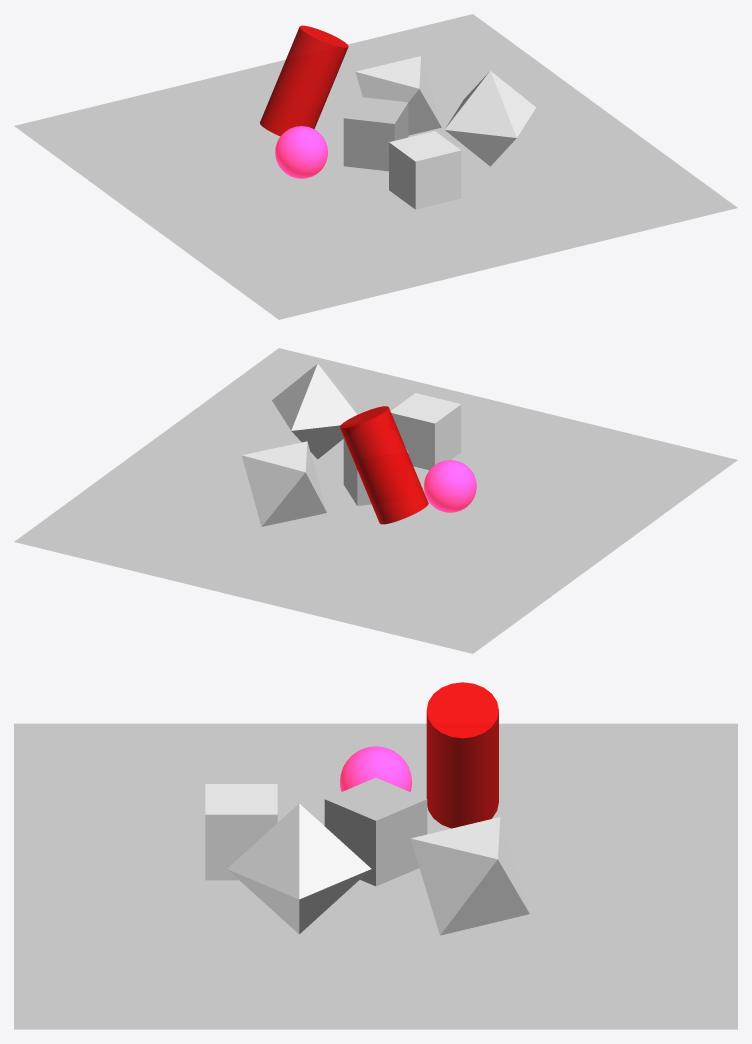
File: TestScene.gltf
3 views of the same model, one above another, from view 1: azimuth 30°, elevation 25°; view 2: azimuth 150°, elevation 25°; view 3: azimuth 270°, elevation 25° (orthographic). The views are drawn at different scales.
Parts seen in each view (by area): view 1: Plane, Cube (×2), Cylinder, Cone (×2), Cone.001 (×2), Sphere; view 2: Plane, Cone (×2), Cylinder, Cube (×2), Cone.001 (×2), Sphere; view 3: Plane, Cone (×2), Cube (×2), Cylinder, Cone.001, Sphere.
Boxes of the visible parts, left/top/right/bottom form: Plane: left=14, top=14, right=737, bottom=319; Cube (×2): left=343, top=96, right=461, bottom=209; Cylinder: left=260, top=25, right=348, bottom=136; Cone (×2): left=356, top=56, right=535, bottom=137; Cone.001 (×2): left=355, top=72, right=516, bottom=166; Sphere: left=275, top=126, right=327, bottom=178; Plane: left=14, top=348, right=737, bottom=653; Cone (×2): left=241, top=363, right=357, bottom=526; Cylinder: left=340, top=406, right=428, bottom=524; Cube (×2): left=343, top=393, right=461, bottom=505; Cone.001 (×2): left=262, top=425, right=343, bottom=526; Sphere: left=424, top=460, right=476, bottom=512; Plane: left=14, top=723, right=737, bottom=1029; Cone (×2): left=227, top=803, right=529, bottom=935; Cube (×2): left=205, top=778, right=427, bottom=886; Cylinder: left=426, top=682, right=498, bottom=828; Cone.001: left=227, top=869, right=370, bottom=934; Sphere: left=340, top=746, right=411, bottom=791.
Bounding box in the file's own units: 10 × 2.55 × 10.
